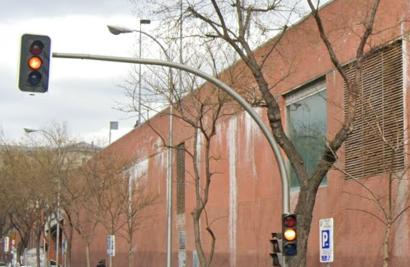yellow_light: (19, 33, 51, 93), (282, 213, 299, 257)
